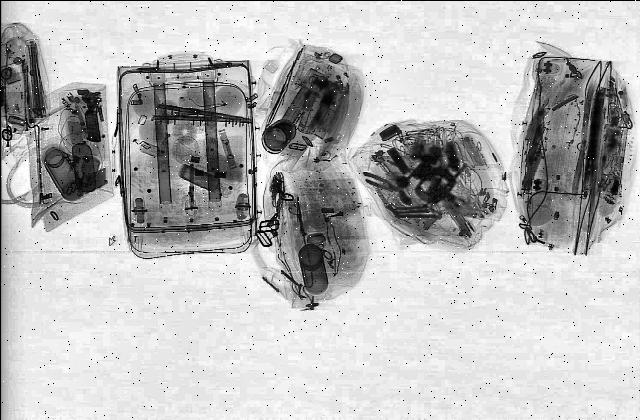Pliers: (355, 171, 403, 193)
